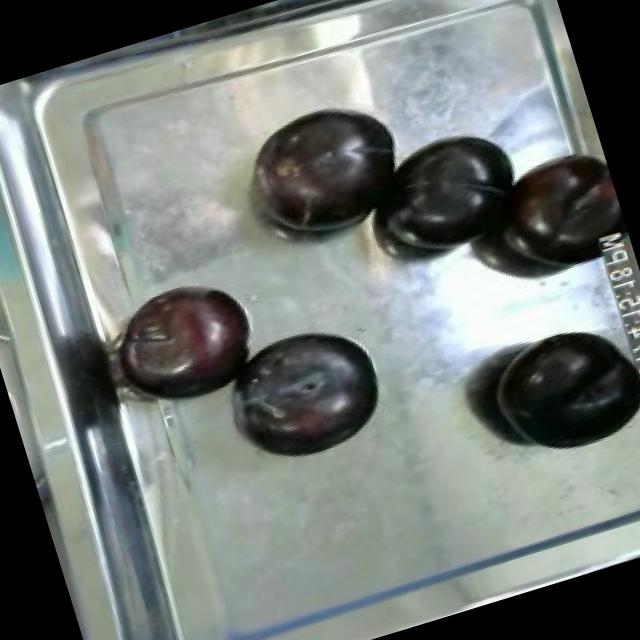Fruit: (232, 85, 424, 252), (222, 310, 398, 472), (472, 304, 640, 471), (368, 112, 541, 272), (109, 266, 272, 416), (487, 136, 624, 255)
